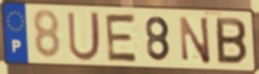8: (31, 8, 65, 63), (144, 15, 172, 63)
B: (214, 15, 249, 67)
E: (104, 12, 140, 64)
N: (177, 15, 213, 66)
U: (65, 10, 103, 64)
